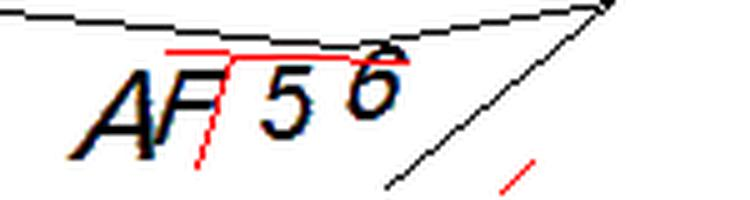5: (253, 60, 327, 148)
6: (340, 40, 416, 125)
A: (61, 62, 169, 169)
F: (151, 61, 234, 153)
